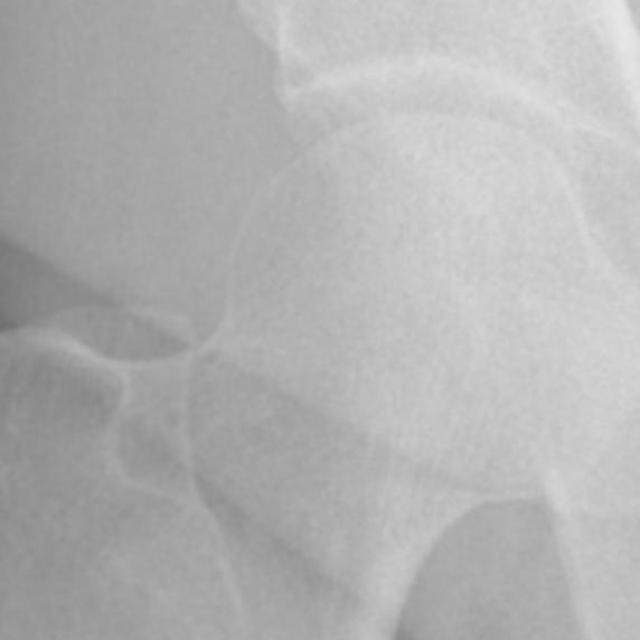Fitted_femural_head: (429, 113, 432, 429)
